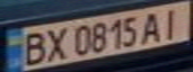0: (69, 21, 93, 56)
1: (106, 16, 127, 50)
5: (121, 12, 145, 47)
8: (90, 19, 112, 53)
A: (139, 8, 169, 43)
B: (15, 28, 51, 66)
I: (157, 5, 187, 39)
X: (39, 25, 69, 63)
